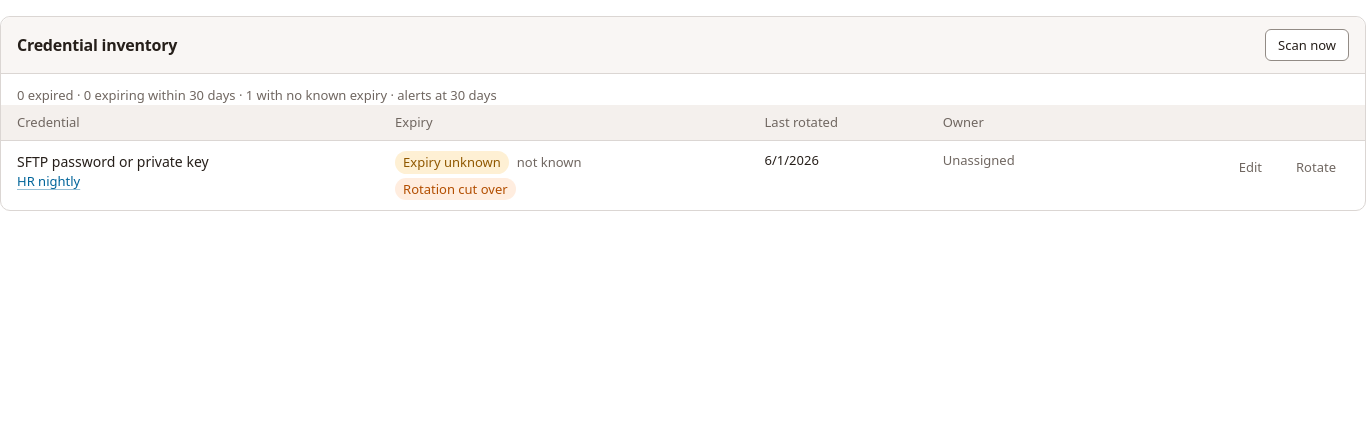
Test: CredentialsTab › shows the server refusal of a step
The width and height of the screenshot is (1366, 421).
Click the button "Rotate" at (1316,167), box x1=1283 y1=151 x2=1349 y2=183
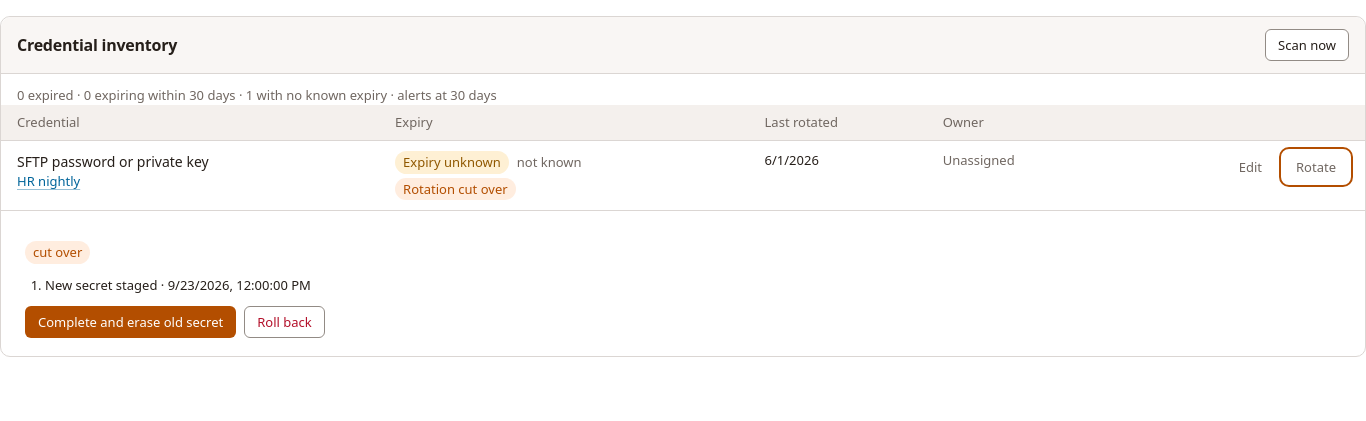
Click the button "Complete and erase old secret" at (131,322), box x1=25 y1=306 x2=236 y2=338
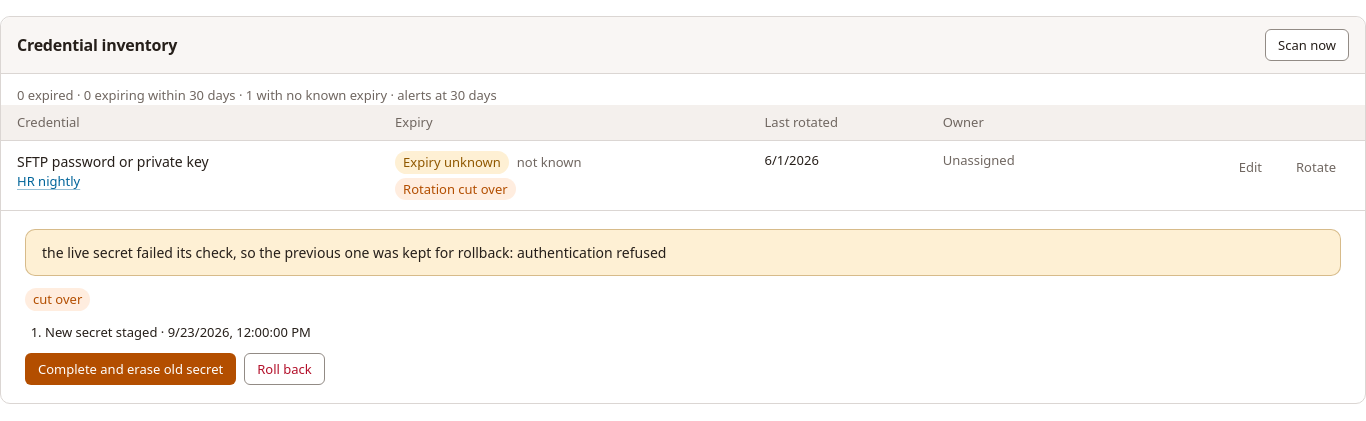
Check: the text "previous one was kept for rollback" is shown, box x1=42 y1=243 x2=666 y2=262
